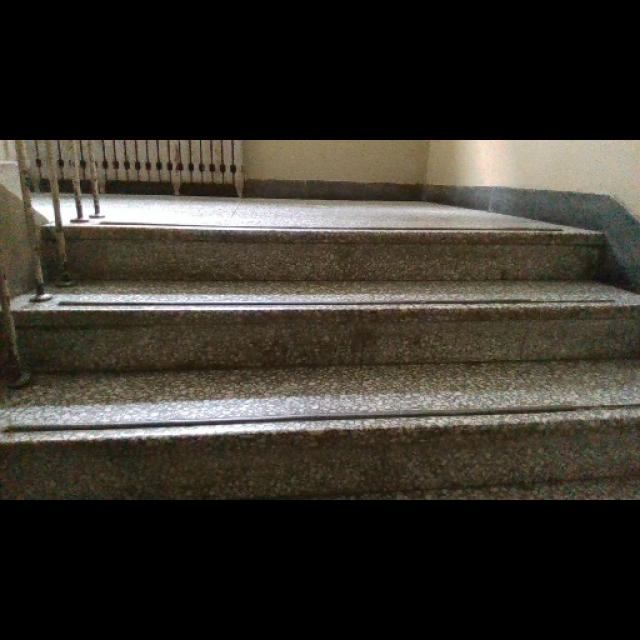Stairs: (0, 190, 639, 499)
